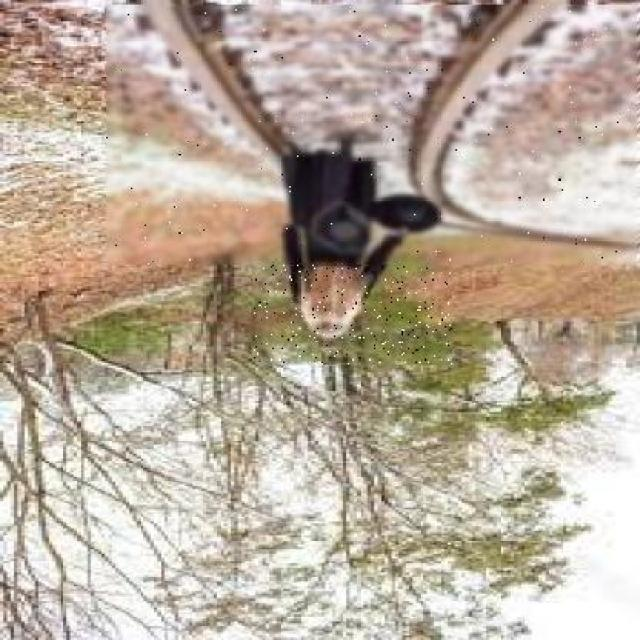rail: (108, 7, 639, 265)
